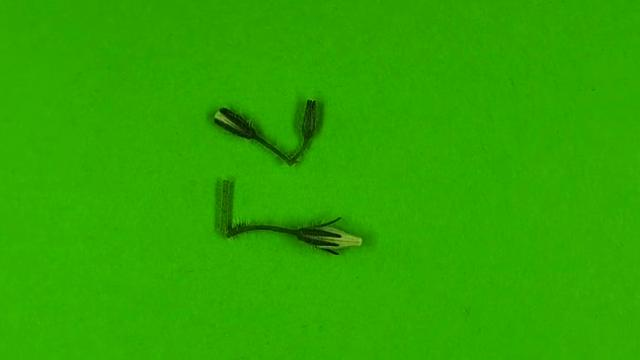Flower Bud: (297, 222, 363, 255), (213, 107, 256, 138), (301, 100, 317, 138)
